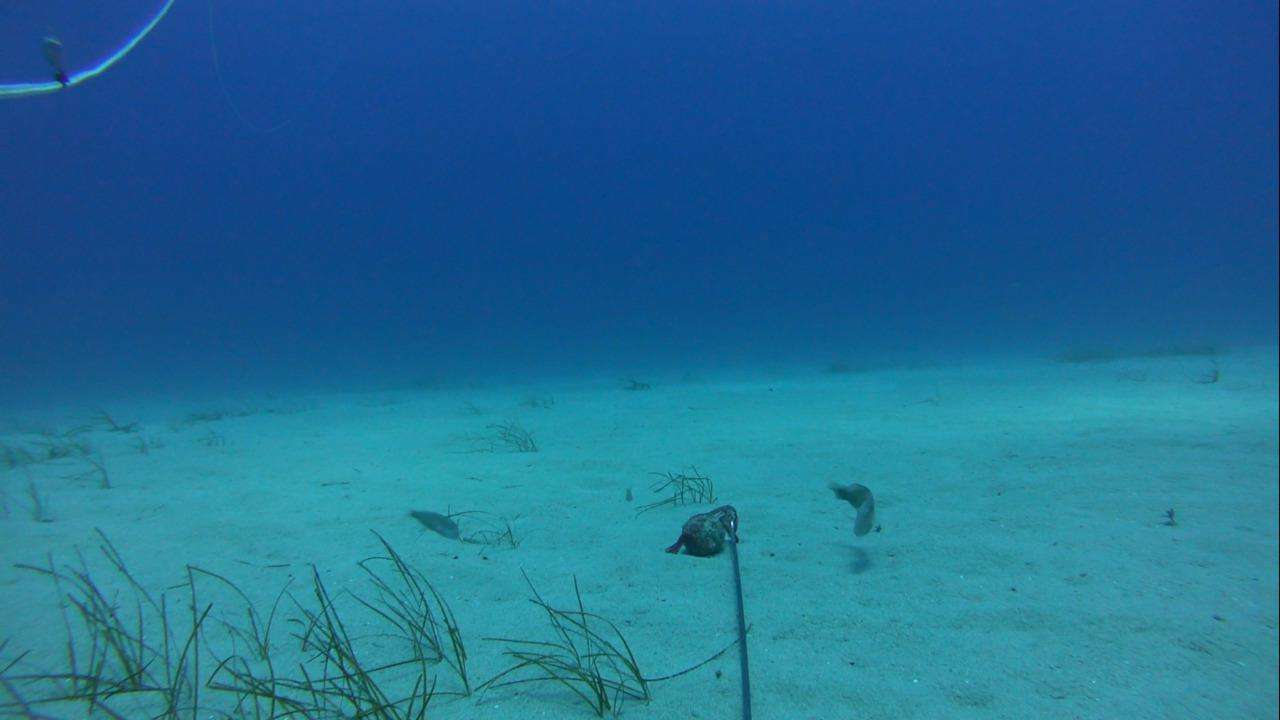raor: (820, 469, 877, 541), (403, 503, 468, 541)
